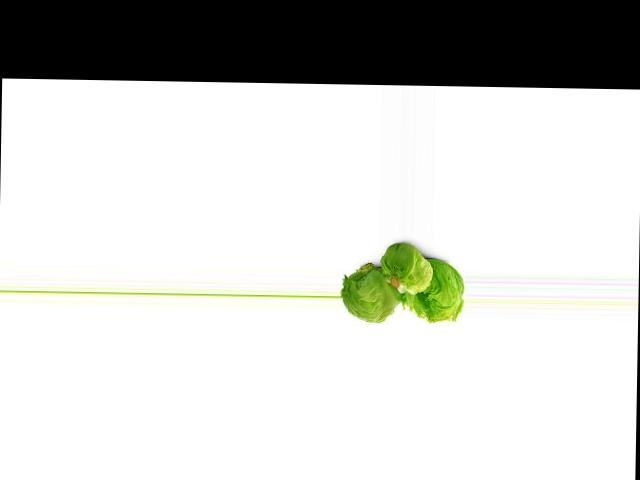lettuce: (408, 262, 461, 319)
